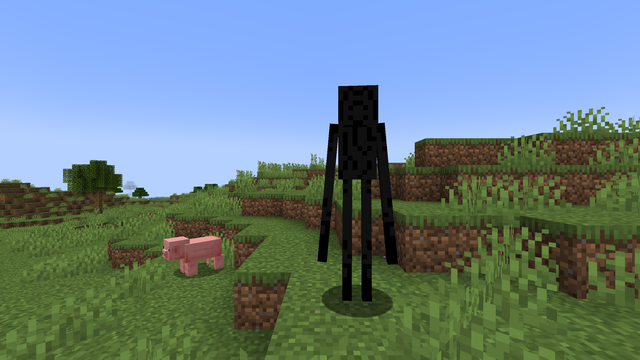cochons: (175, 235, 220, 274)
endermens: (333, 77, 383, 309)
